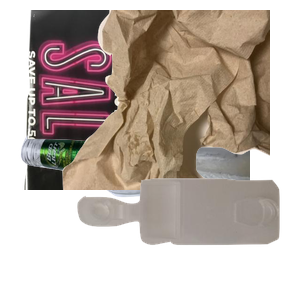glass: (18, 124, 258, 300)
paper: (22, 10, 225, 190)
plastic: (75, 176, 300, 300)
trash: (60, 10, 300, 190)
